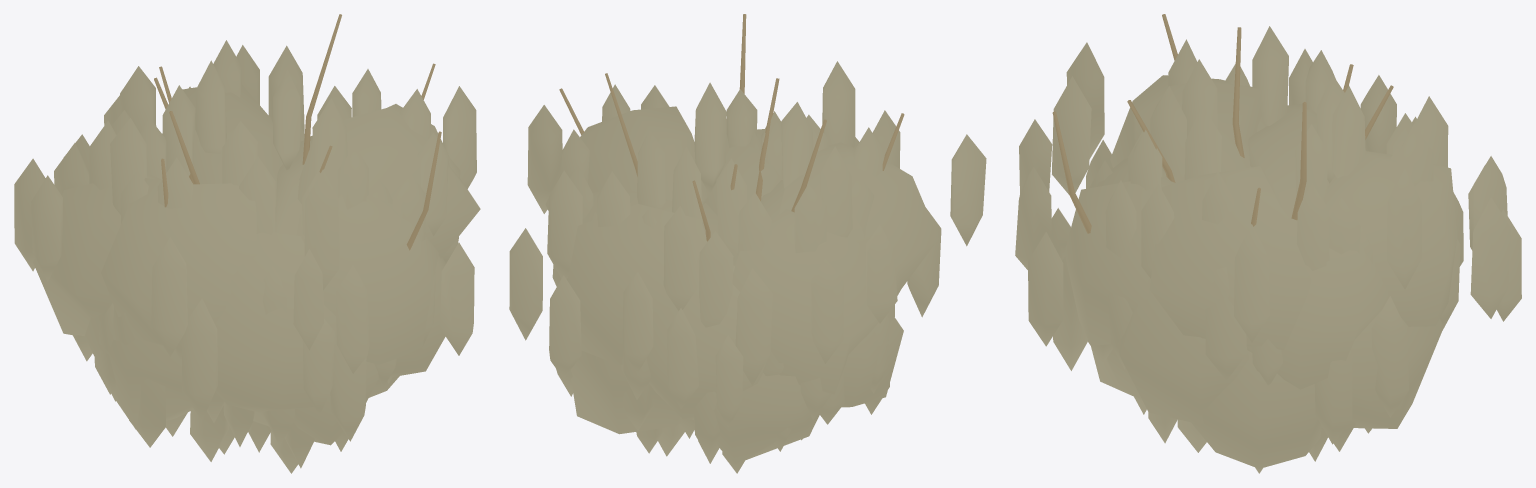
Rendered from Blender_CoastalSage_1.glb.
The picture shows the model from 3 angles, left to right: view 1: azimuth 30°, elevation 25°; view 2: azimuth 150°, elevation 25°; view 3: azimuth 270°, elevation 25°; orthographic projection. The views are drawn at different scales.
Visible parts, largest first — view 1: Blender_CoastalSage_1; view 2: Blender_CoastalSage_1; view 3: Blender_CoastalSage_1.
Part boxes in pixels (x1,y1,x2,y2): Blender_CoastalSage_1: (14,14,480,473); Blender_CoastalSage_1: (509,14,986,473); Blender_CoastalSage_1: (1015,14,1521,473).
Bounding box in the file's own units: 1.29 × 1.17 × 1.34.
